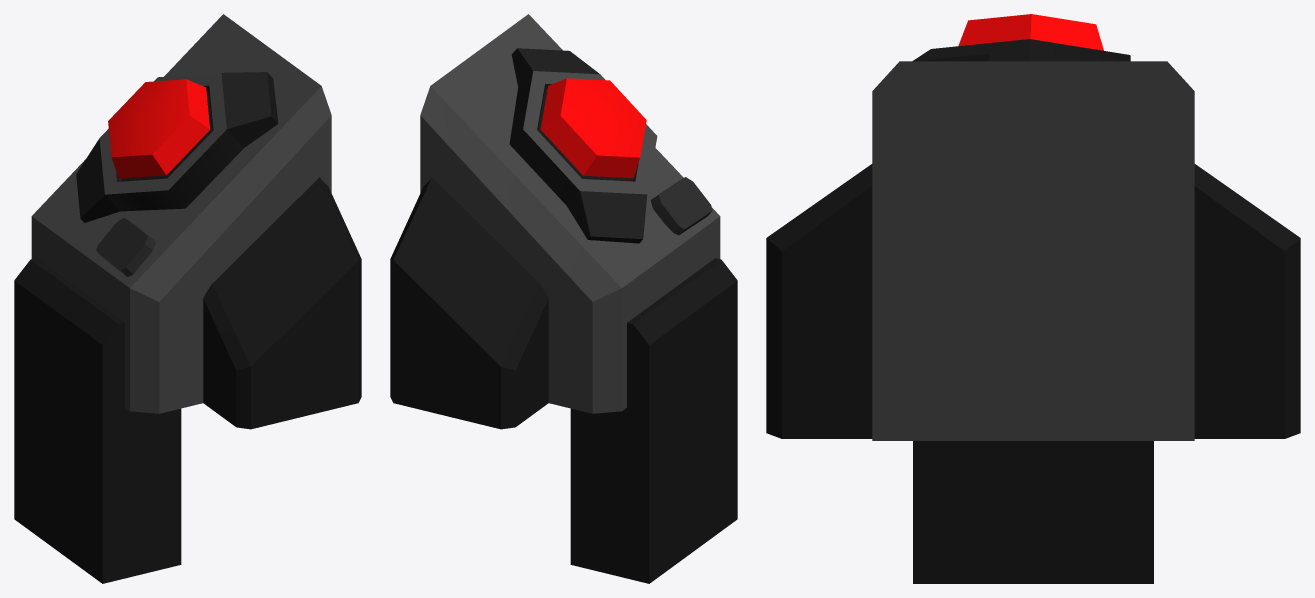
File: TheButton.FBX
3 renders of one model, left to right at view 1: azimuth 30°, elevation 25°; view 2: azimuth 150°, elevation 25°; view 3: azimuth 270°, elevation 25°, orthographic. The views are drawn at different scales.
Visible parts, largest first — view 1: Box070, Object008; view 2: Box070, Object008; view 3: Box070, Object008.
Boxes of the visible parts, left/top/right/bottom form: Box070: left=14, top=14, right=361, bottom=583; Object008: left=108, top=79, right=210, bottom=178; Box070: left=390, top=14, right=737, bottom=583; Object008: left=540, top=78, right=646, bottom=178; Box070: left=766, top=39, right=1300, bottom=583; Object008: left=958, top=14, right=1103, bottom=50.
Size of the model in its own units: 13.18 by 26.43 by 20.9.
